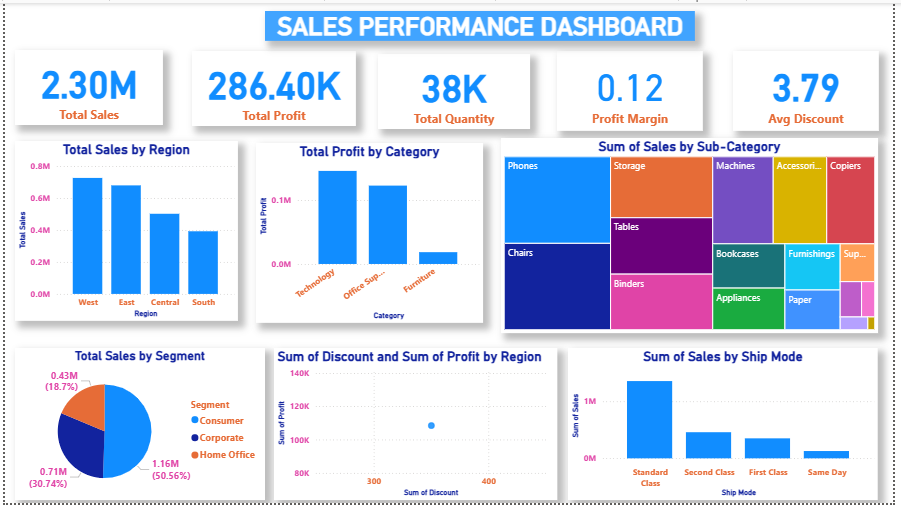

The page's visual inventory and layout, read from the dashboard file:
{"tool":"powerbi","page":{"name":"Sales performance dashboard","canvas":[1280,720],"ordinal":0},"visuals":[{"type":"card","fields":{"Values":["SampleSuperstore.Total Sales"]},"box":[14.4,67.7,213.1,108],"z":0},{"type":"card","fields":{"Values":["SampleSuperstore.Total Profit"]},"box":[269.3,69.1,236.2,108],"z":1000},{"type":"card","fields":{"Values":["SampleSuperstore.Total Quantity"]},"box":[537.1,73.4,218.9,108],"z":2000},{"type":"card","fields":{"Values":["SampleSuperstore.Profit Margin"]},"box":[794.9,69.1,210.2,115.2],"z":3000},{"type":"card","fields":{"Values":["SampleSuperstore.Avg Discount"]},"box":[1048.3,69.1,210.2,115.2],"z":4000},{"type":"columnChart","fields":{"Category":["SampleSuperstore.Region"],"Y":["SampleSuperstore.Total Sales"]},"box":[14.4,198.7,321.1,259.2],"z":5000},{"type":"columnChart","fields":{"Category":["SampleSuperstore.Category"],"Y":["SampleSuperstore.Total Profit"]},"box":[361.4,201.6,326.9,259.2],"z":6000},{"type":"treemap","fields":{"Group":["SampleSuperstore.Sub-Category"],"Values":["Sum(SampleSuperstore.Sales)"]},"box":[714.2,194.4,542.9,280.8],"z":7000},{"type":"pieChart","fields":{"Category":["SampleSuperstore.Segment"],"Y":["SampleSuperstore.Total Sales"]},"box":[14.4,496.8,360,218.9],"z":8000},{"type":"scatterChart","fields":{"X":["Sum(SampleSuperstore.Discount)"],"Y":["Sum(SampleSuperstore.Profit)"],"Category":["SampleSuperstore.Region"]},"box":[387.4,496.8,407.5,218.9],"z":9000},{"type":"columnChart","fields":{"Category":["SampleSuperstore.Ship Mode"],"Y":["Sum(SampleSuperstore.Sales)"]},"box":[810.7,496.8,446.4,218.9],"z":10000},{"type":"textbox","title":"SALES PERFORMANCE DASHBOARD","box":[374.4,11.5,612,46.1],"z":11000}]}

Visuals, with their boxes in screenshot pixels (x1, y1, x2, y2), scaled from the page's 1280x720 canvas onto the 901x510 screenshot:
card - SampleSuperstore.Total Sales: [x1=10, y1=48, x2=160, y2=124]
card - SampleSuperstore.Total Profit: [x1=190, y1=49, x2=356, y2=125]
card - SampleSuperstore.Total Quantity: [x1=378, y1=52, x2=532, y2=128]
card - SampleSuperstore.Profit Margin: [x1=560, y1=49, x2=707, y2=131]
card - SampleSuperstore.Avg Discount: [x1=738, y1=49, x2=886, y2=131]
columnChart - SampleSuperstore.Region x SampleSuperstore.Total Sales: [x1=10, y1=141, x2=236, y2=324]
columnChart - SampleSuperstore.Category x SampleSuperstore.Total Profit: [x1=254, y1=143, x2=484, y2=326]
treemap - SampleSuperstore.Sub-Category x Sum(SampleSuperstore.Sales): [x1=503, y1=138, x2=885, y2=337]
pieChart - SampleSuperstore.Segment x SampleSuperstore.Total Sales: [x1=10, y1=352, x2=264, y2=507]
scatterChart - Sum(SampleSuperstore.Discount) x Sum(SampleSuperstore.Profit): [x1=273, y1=352, x2=560, y2=507]
columnChart - SampleSuperstore.Ship Mode x Sum(SampleSuperstore.Sales): [x1=571, y1=352, x2=885, y2=507]
"SALES PERFORMANCE DASHBOARD" textbox: [x1=264, y1=8, x2=694, y2=41]
